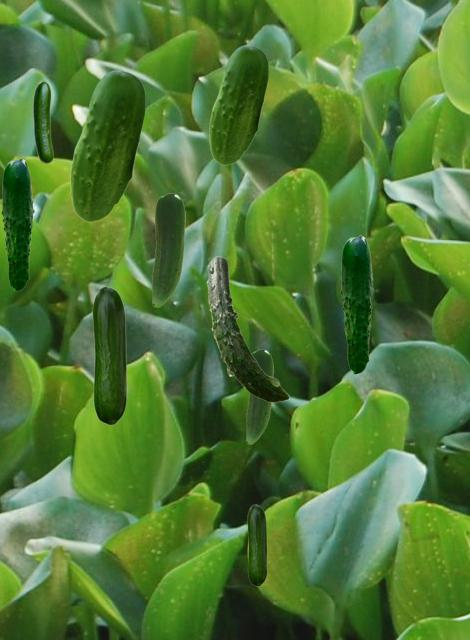cucumber: (206, 256, 288, 401), (70, 70, 144, 221), (209, 45, 267, 164), (92, 286, 126, 424), (340, 235, 373, 373), (1, 158, 33, 290), (152, 193, 184, 306), (246, 349, 272, 443), (33, 81, 52, 162), (247, 504, 266, 585)
